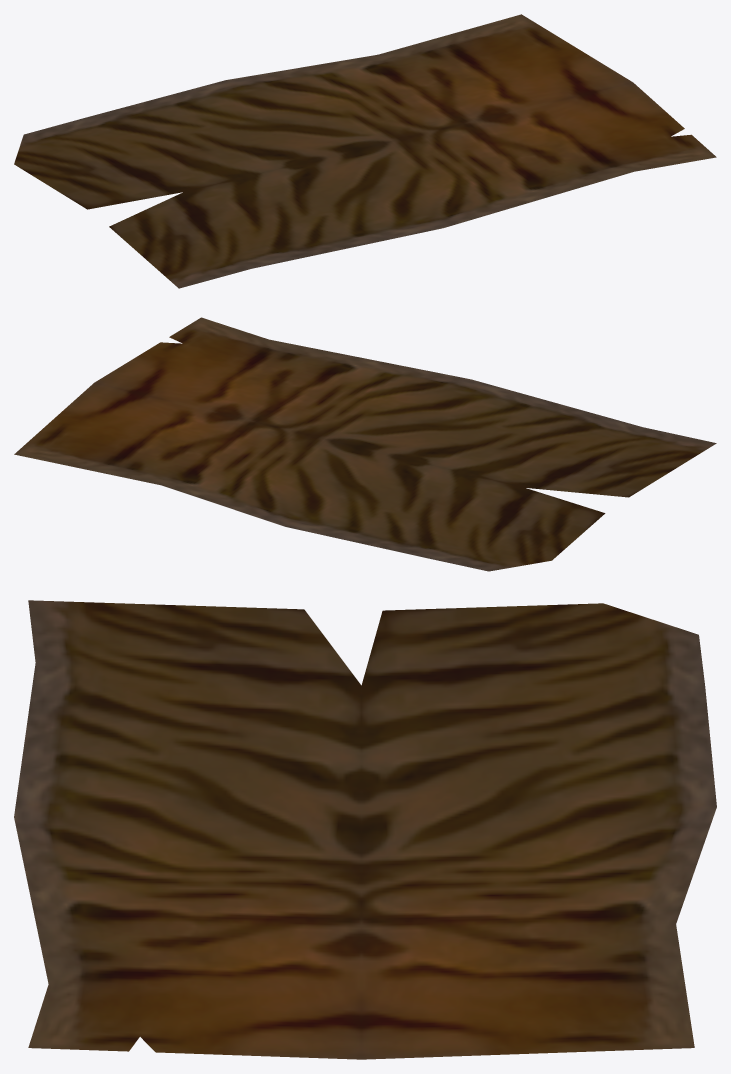
Rendered from daliang_field_a_s05m.fbx.
3 views of the same model, one above another, from view 1: azimuth 30°, elevation 25°; view 2: azimuth 150°, elevation 25°; view 3: azimuth 270°, elevation 25° (orthographic). The views are drawn at different scales.
Visible parts, largest first — view 1: daliang_field_a_s05m; view 2: daliang_field_a_s05m; view 3: daliang_field_a_s05m.
Part boxes in pixels (x1,y1,x2,y2): daliang_field_a_s05m: (14,14,716,288); daliang_field_a_s05m: (14,317,716,571); daliang_field_a_s05m: (14,600,716,1059).
Size of the model in its own units: 377 by 0 by 244.
